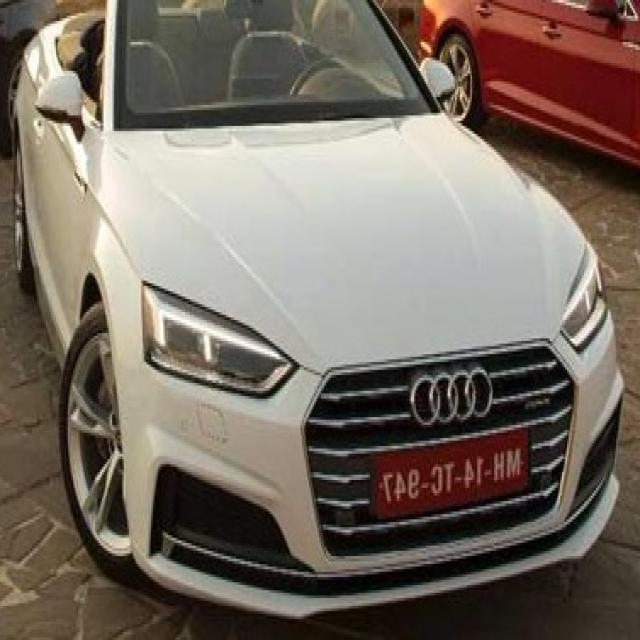number-plate: (370, 432, 526, 524)
